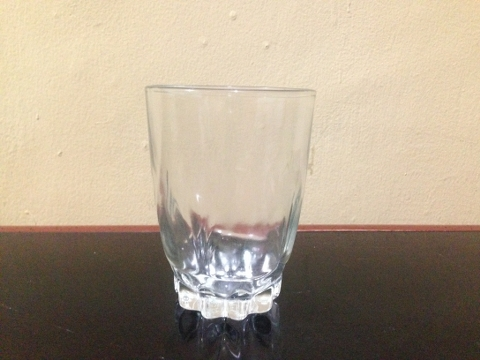tempat minum: (146, 83, 317, 320)
